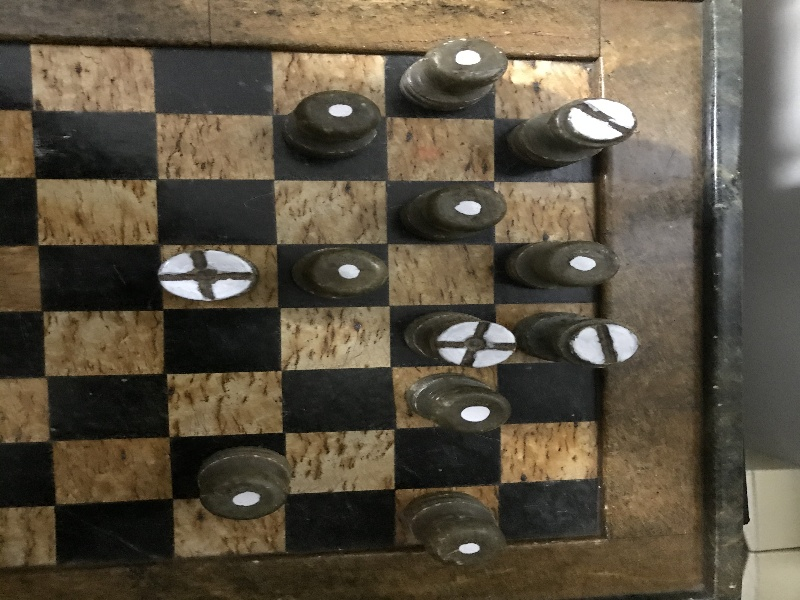WhiteBishop: (403, 311, 517, 367), (160, 250, 258, 301)
WhitePawn: (400, 39, 507, 108), (406, 491, 505, 565), (284, 91, 380, 161), (198, 447, 291, 518), (407, 374, 510, 432), (400, 185, 505, 237), (507, 242, 620, 289), (292, 247, 387, 301)
WhiteRook: (509, 98, 635, 167), (515, 311, 638, 367)
